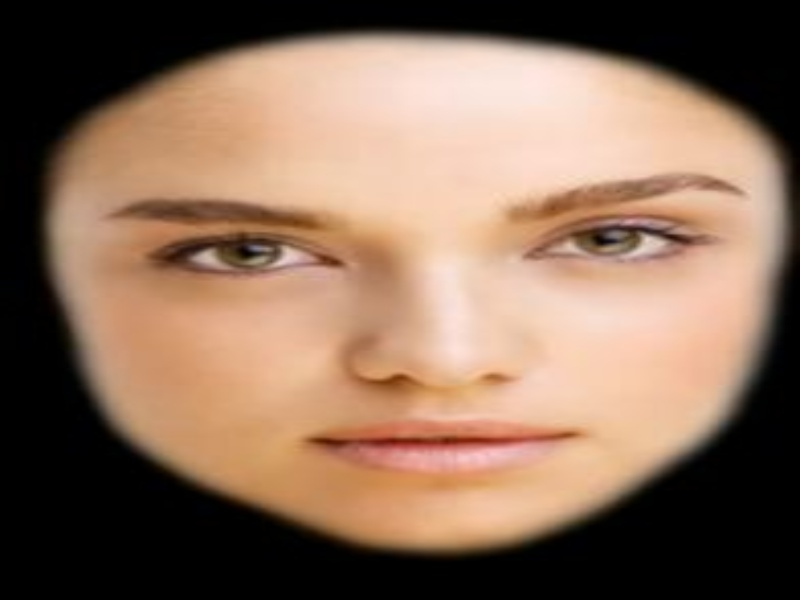face: (109, 168, 742, 480)
